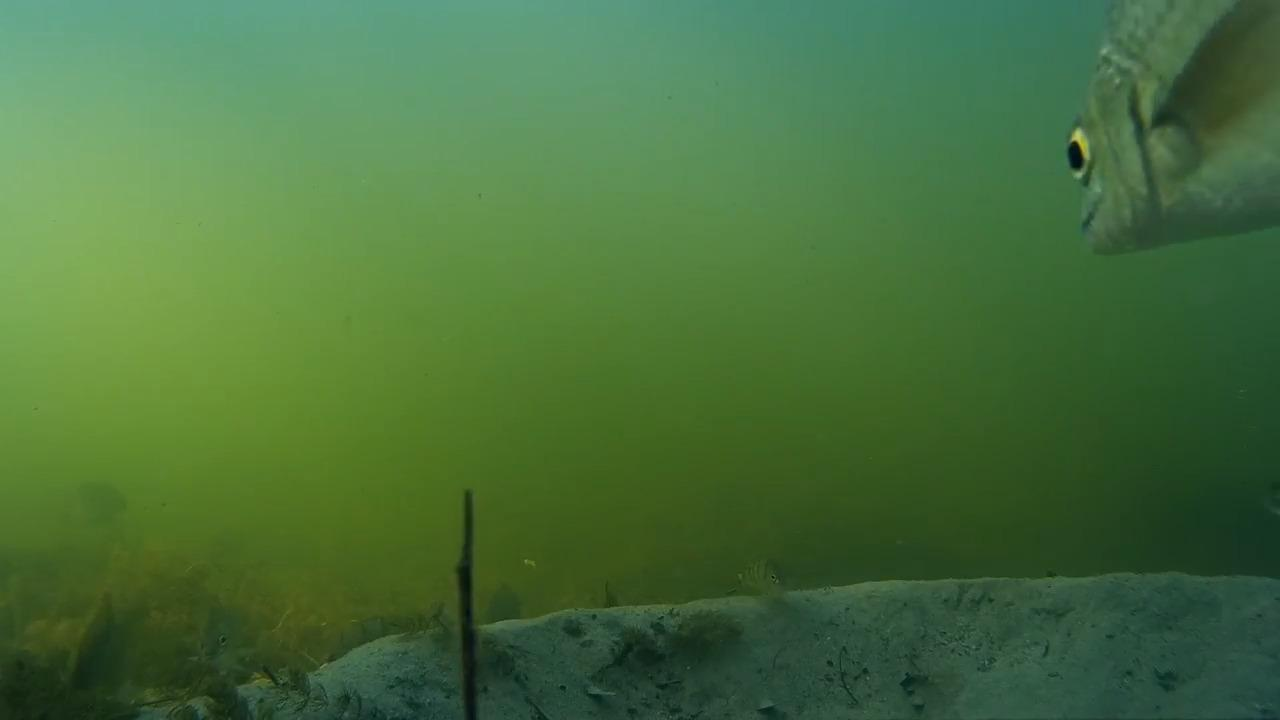Tilapia: (1096, 8, 1280, 283)
